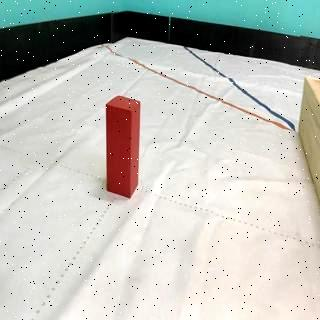redbox: (104, 96, 141, 198)
